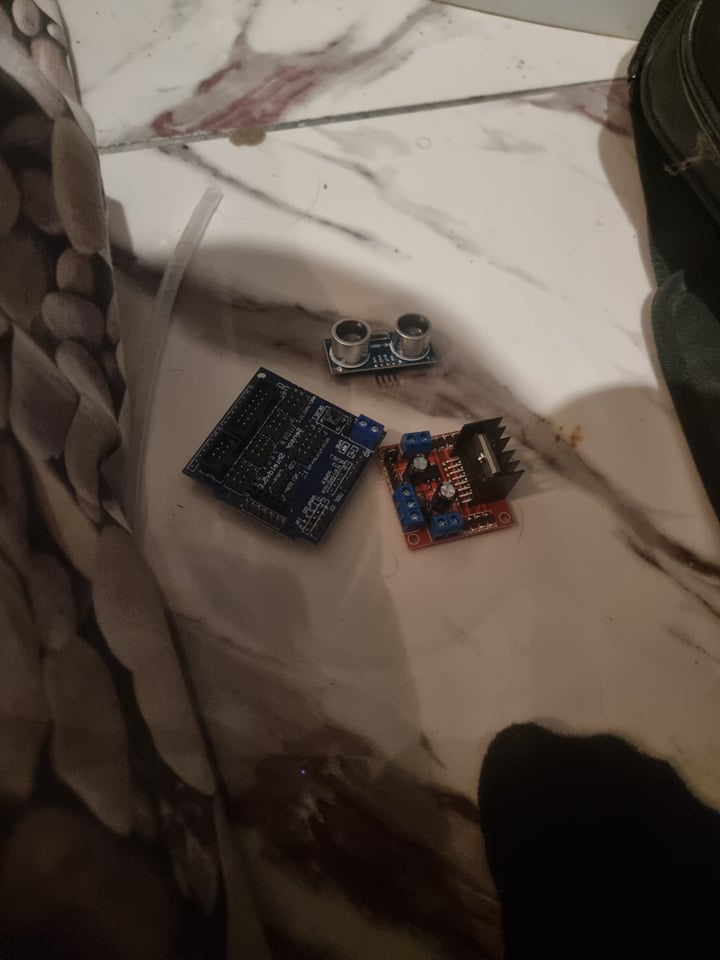5V EXPANSION: (181, 365, 387, 546)
MOTOR: (379, 415, 524, 551)
SENSOR: (322, 313, 435, 377)
